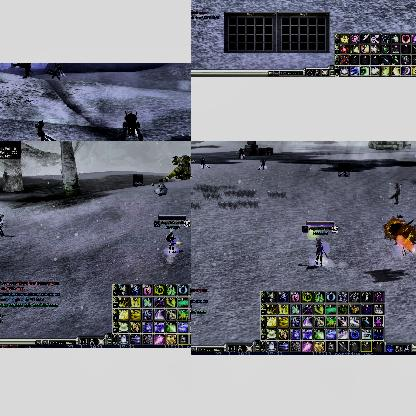caliana: (34, 119, 59, 141), (389, 183, 401, 203), (338, 163, 350, 177), (0, 213, 5, 237), (133, 174, 143, 186), (199, 158, 209, 168), (258, 160, 266, 170)
